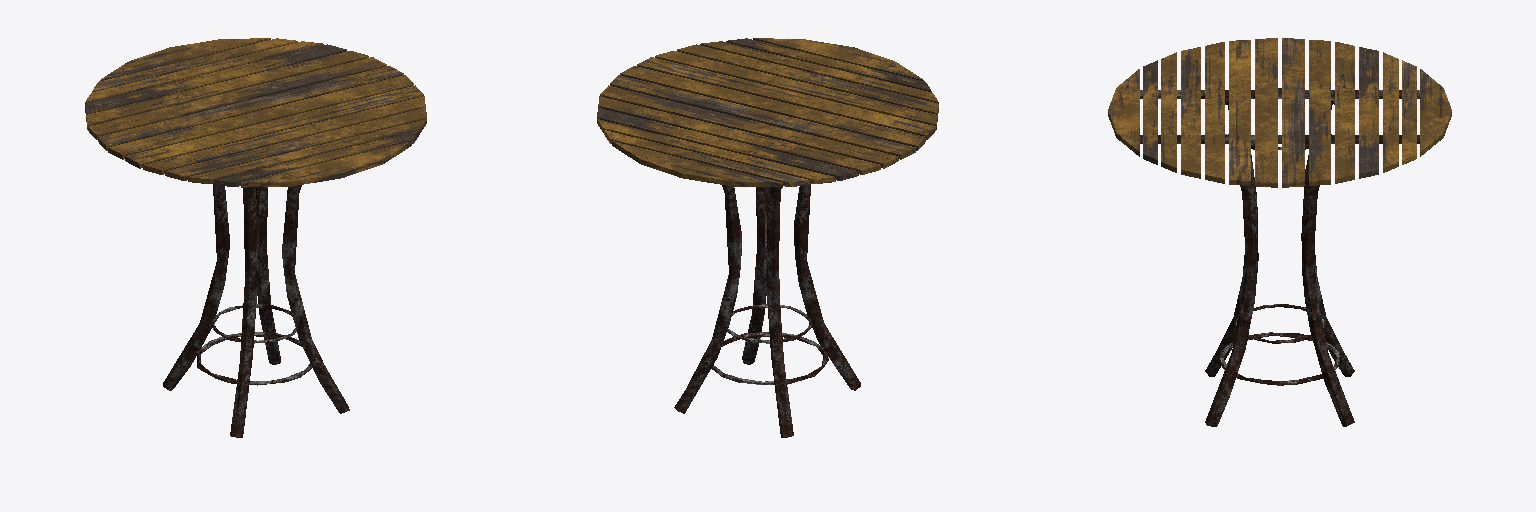
3 views of the same model, side by side, from view 1: azimuth 30°, elevation 25°; view 2: azimuth 150°, elevation 25°; view 3: azimuth 270°, elevation 25° (orthographic).
Visible parts, largest first — view 1: tableoutside; view 2: tableoutside; view 3: tableoutside.
Part boxes in pixels (left/top/right/bottom): tableoutside: left=85, top=38, right=426, bottom=437; tableoutside: left=597, top=38, right=938, bottom=437; tableoutside: left=1108, top=38, right=1451, bottom=426.
Size of the model in its own units: 98.77 by 92.38 by 98.95.
1 materials, 1 textured.